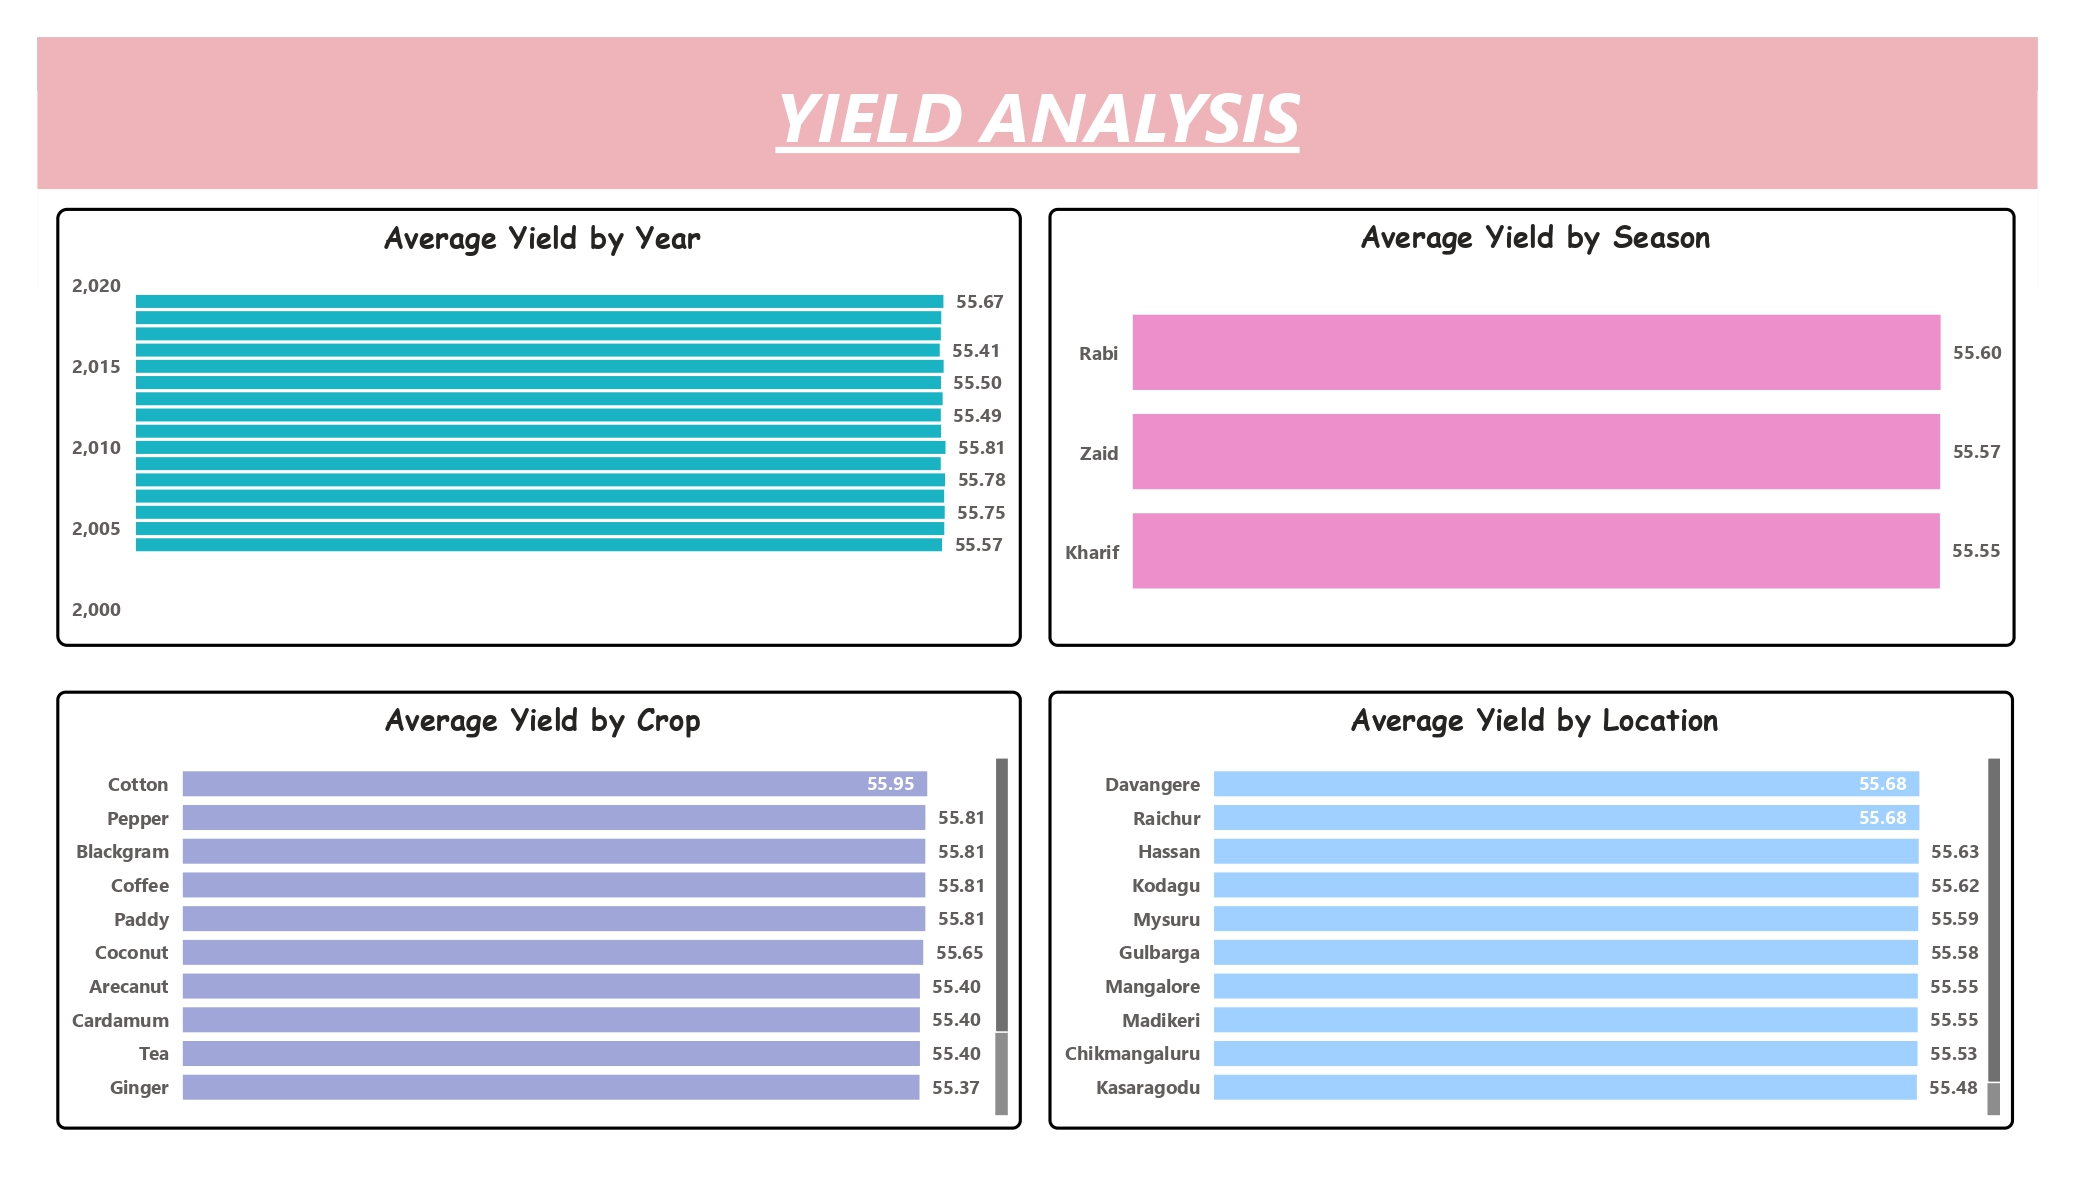

What the dashboard file says about the page in this screenshot:
{"tool":"powerbi","page":{"name":"Yield Analysis","canvas":[1280,720],"ordinal":3},"visuals":[{"type":"shape","box":[0,0,1279.8,96.8],"z":0},{"type":"barChart","title":"Average  Yield by Year","fields":{"Category":["AGRICULTURE.YEAR"],"Y":["Sum(AGRICULTURE.HUMIDITY)"]},"box":[11.7,109,618,281.5],"z":1000},{"type":"barChart","title":"Average  Yield by Season","fields":{"Category":["AGRICULTURE.SEASON"],"Y":["Sum(AGRICULTURE.HUMIDITY)"]},"box":[647.4,109,618.8,281.5],"z":2000},{"type":"barChart","title":"Average  Yield by Crop","fields":{"Category":["AGRICULTURE.CROPS"],"Y":["Sum(AGRICULTURE.HUMIDITY)"]},"box":[11.7,417.7,618,281],"z":3000},{"type":"barChart","title":"Average  Yield by Location","fields":{"Category":["AGRICULTURE.LOCATION"],"Y":["Sum(AGRICULTURE.HUMIDITY)"]},"box":[647.4,417.7,618,281.5],"z":4000}]}

Visuals, with their boxes on the page's 1280x720 design canvas (x1, y1, x2, y2). These are canvas units, not pixel positions in the 2075x1200 screenshot, which may show the page scaled, cropped or inside an application window:
shape: {"left": 0, "top": 0, "right": 1280, "bottom": 97}
"Average  Yield by Year" barChart: {"left": 12, "top": 109, "right": 630, "bottom": 390}
"Average  Yield by Season" barChart: {"left": 647, "top": 109, "right": 1266, "bottom": 390}
"Average  Yield by Crop" barChart: {"left": 12, "top": 418, "right": 630, "bottom": 699}
"Average  Yield by Location" barChart: {"left": 647, "top": 418, "right": 1265, "bottom": 699}
